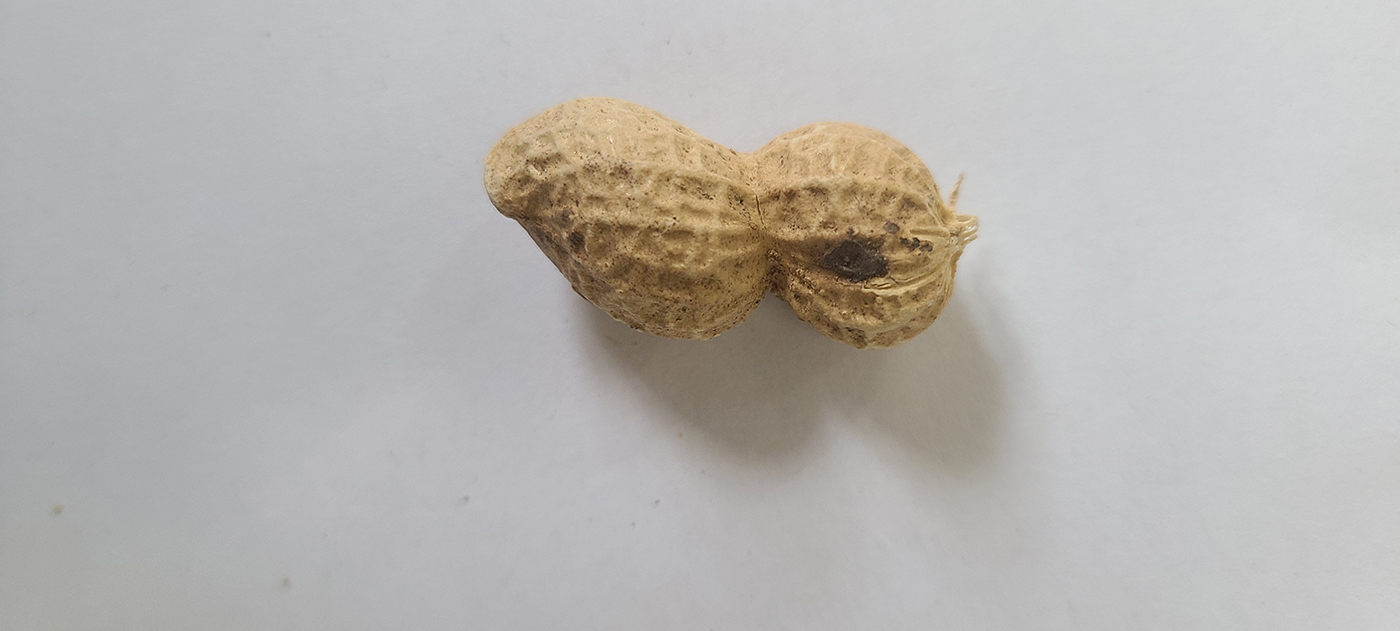h: (484, 88, 961, 349)
